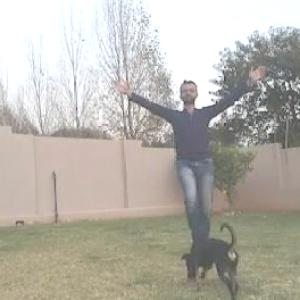takeoff: (109, 58, 272, 259)
